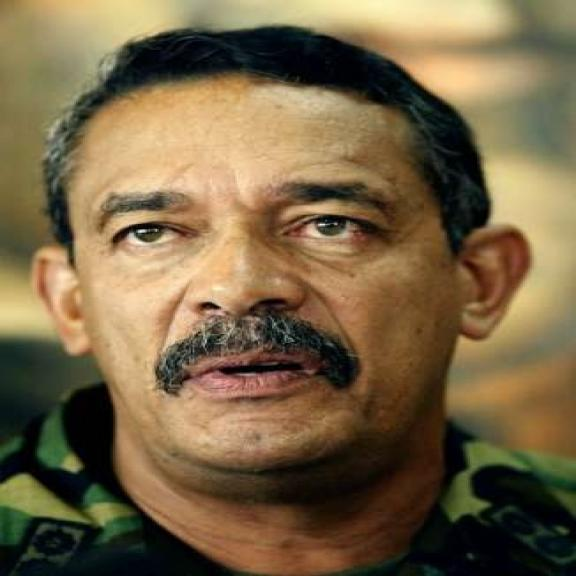face: (33, 92, 537, 499)
